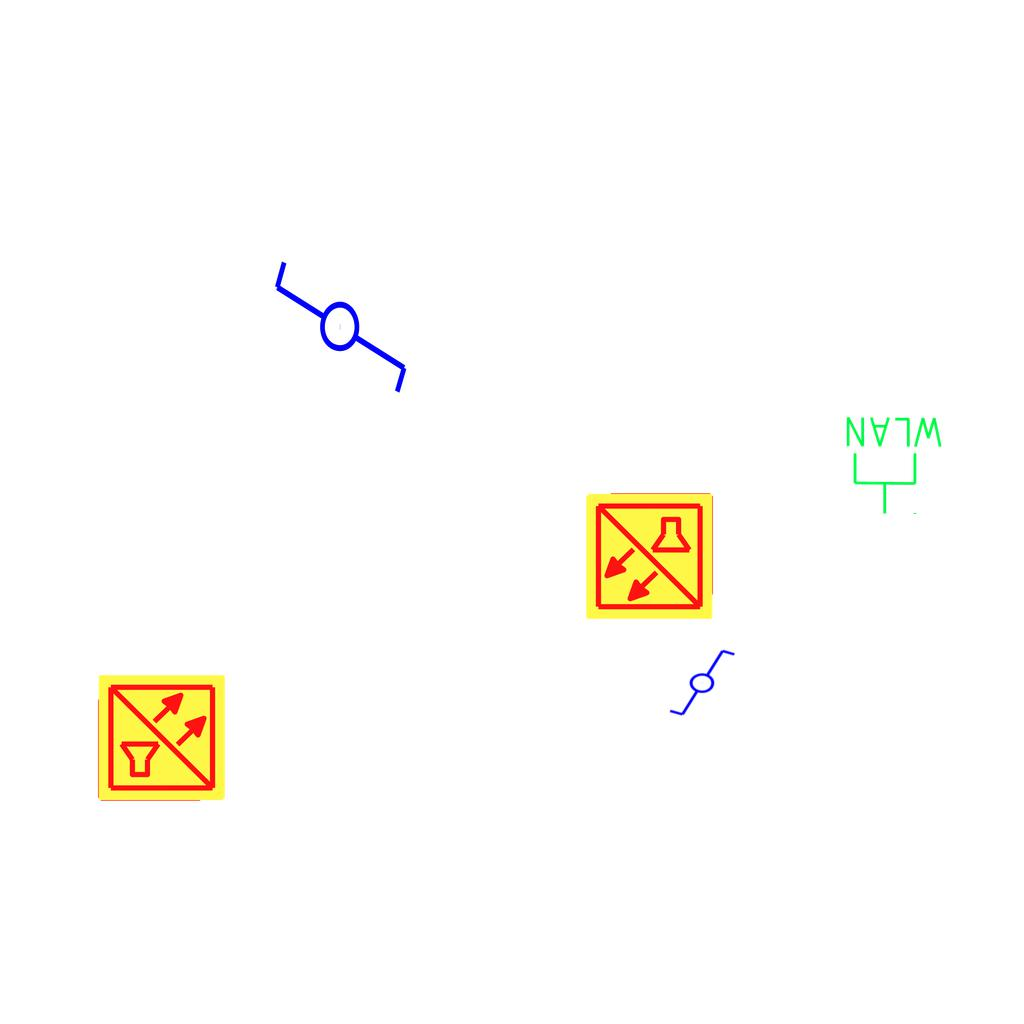OKW_Multisensormelder_(Kombination_optischer_Rauch-Kahlenmonoxid_Waerme-Melder): (583, 490, 715, 622), (96, 672, 228, 804)
WLAN: (842, 413, 947, 517)
Wechselschalter: (270, 240, 414, 397), (659, 646, 737, 718)
